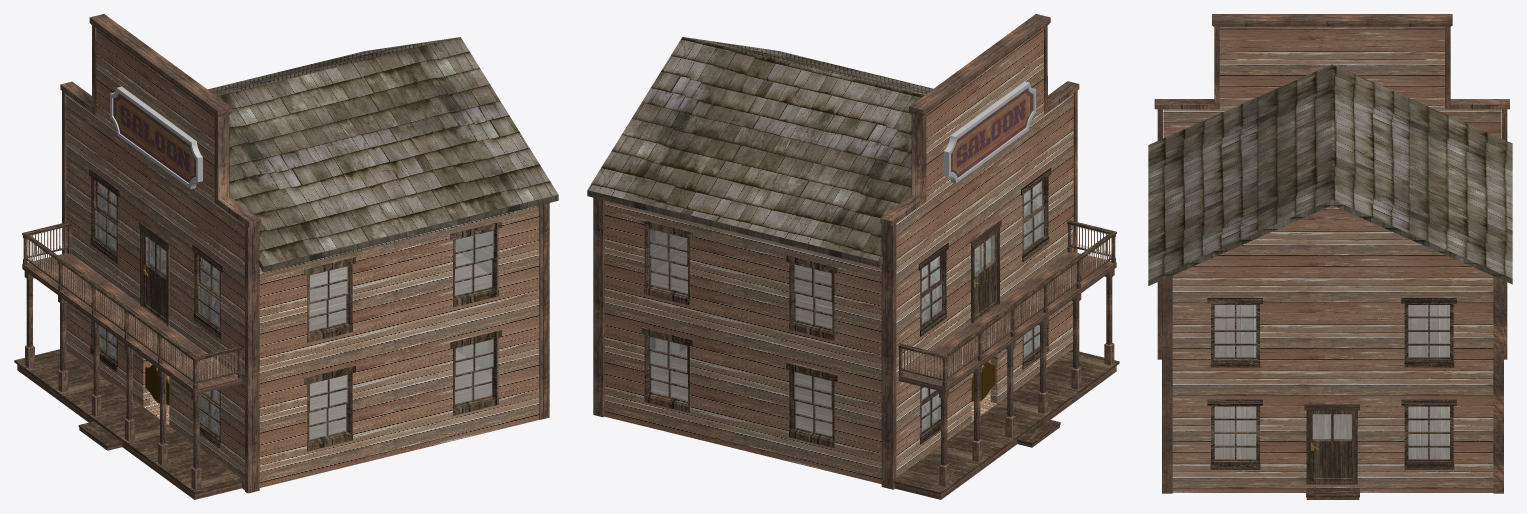
Rendered from Western_Saloon.obj.
3 renders of one model, left to right at view 1: azimuth 30°, elevation 25°; view 2: azimuth 150°, elevation 25°; view 3: azimuth 270°, elevation 25°, orthographic. The views are drawn at different scales.
Visible parts, largest first — view 1: Saloon; view 2: Saloon; view 3: Saloon.
Part boxes in pixels (bbox=[...]): Saloon: bbox=[14, 14, 558, 499]; Saloon: bbox=[587, 14, 1119, 499]; Saloon: bbox=[1148, 14, 1512, 499].
Bounding box in the file's own units: 634 × 579 × 561.
